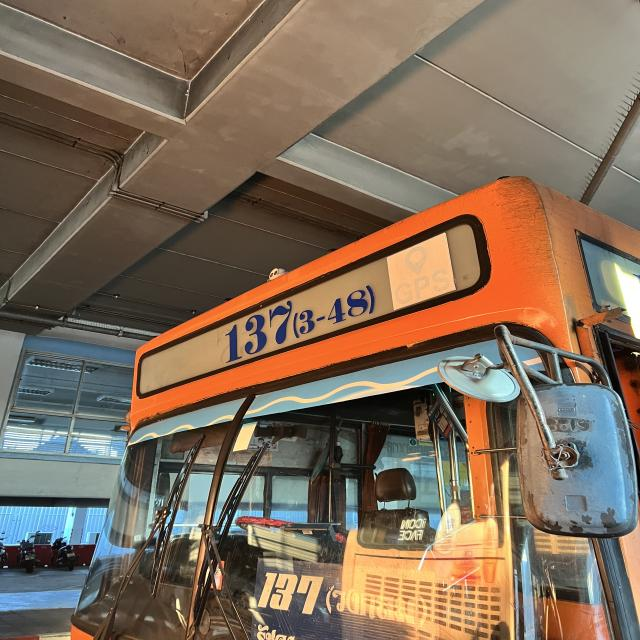BMTA-bus: (70, 176, 639, 640)
Bus-Line-Number: (219, 279, 376, 366)
Destination-Sign-Normal: (253, 559, 451, 640)
